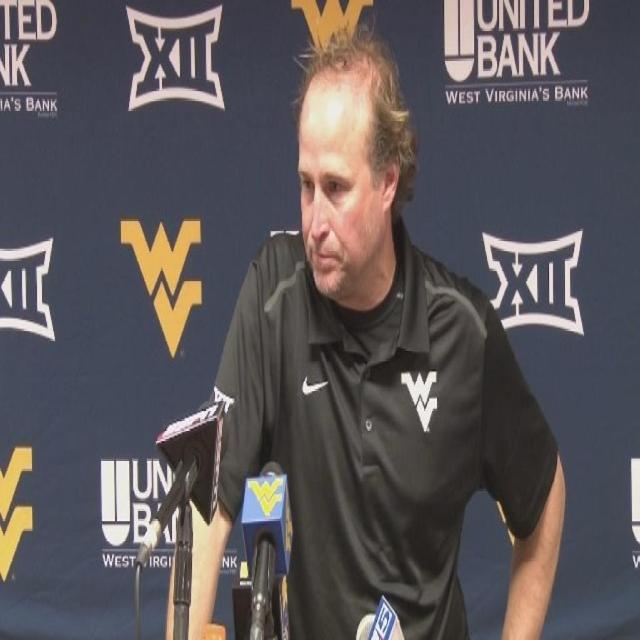Face: (300, 81, 382, 295)
